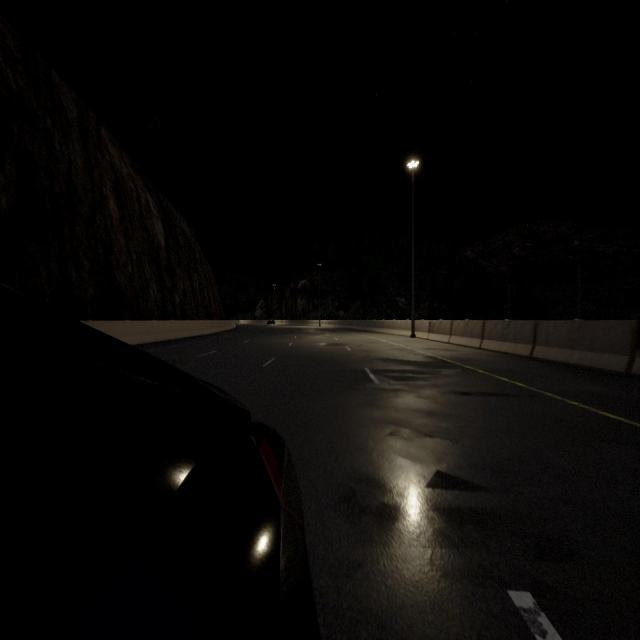Vehicle: (0, 288, 318, 640), (266, 318, 276, 326)
